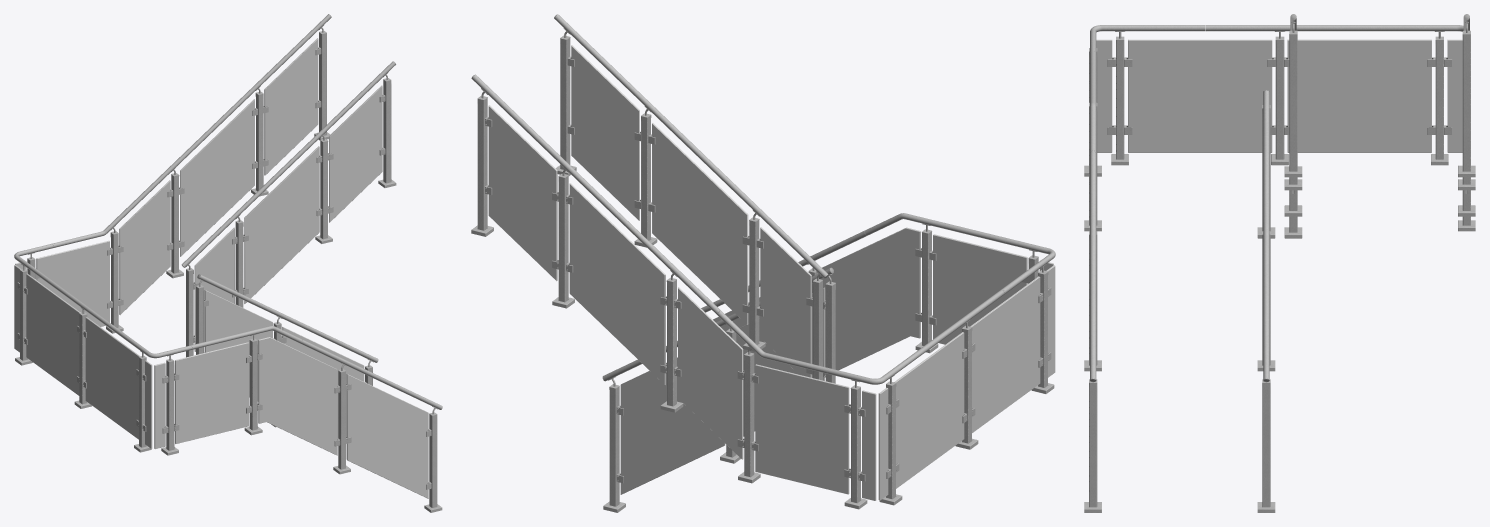
Rendered from Switchback_Railing_Circum-Square_Glass.gltf.
The picture shows the model from 3 angles, left to right: view 1: azimuth 30°, elevation 25°; view 2: azimuth 150°, elevation 25°; view 3: azimuth 270°, elevation 25°; orthographic projection. The views are drawn at different scales.
Visible parts, largest first — view 1: LS208 & LS209 - Circum Square Post Material LS Material [872 (×11), Glass Panel_016, Glass Panel_017, Glass Panel_001, Glass Panel_005, Glass Panel_015, Glass Panel_006, Glass Panel_002, Glass Panel_010, Glass Panel_014, Glass Panel_007, Glass Panel_008 (+15 smaller); view 2: Glass Panel_001, Glass Panel_005, Glass Panel_008, LS208 & LS209 - Circum Square Post Material LS Material [872 (×9), Glass Panel_017, Glass Panel_006, Glass Panel_002, Glass Panel_014, Glass Panel_010, Glass Panel_004, Glass Panel_007, LS208 & LS209 - Circum Square Post Material LS Material [846 (×6) (+12 smaller); view 3: Glass Panel_014, Glass Panel_010, LS208 & LS209 - Circum Square Post Material LS Material [872 (×5), LS208 & LS209 - Circum Square Post Material LS Material [846 (×4), Nested_Rail LS Material [8461324], Glass Panel_013, Glass Panel_011, Nested_Bend Bend_1, Nested_Rail LS Material [8719249], Nested_Bend Bend_2, Nested_Bend Bend [8719267].
Part boxes in pixels (x1,y1,x2,y2): LS208 & LS209 - Circum Square Post Material LS Material [872 (×11): (20,33,437,507); Glass Panel_016: (346,374,428,498); Glass Panel_017: (258,337,337,455); Glass Panel_001: (244,146,319,303); Glass Panel_005: (180,99,254,256); Glass Panel_015: (175,342,248,443); Glass Panel_006: (264,38,318,175); Glass Panel_002: (329,85,382,222); Glass Panel_010: (26,273,80,395); Glass Panel_014: (85,317,139,439); Glass Panel_007: (119,180,170,314); Glass Panel_008: (36,240,109,326); Glass Panel_001: (652,123,748,324); Glass Panel_005: (569,183,665,384); Glass Panel_008: (755,364,849,494); LS208 & LS209 - Circum Square Post Material LS Material [872 (×9): (477,98,1048,503); Glass Panel_017: (821,227,920,370); Glass Panel_006: (488,105,557,280); Glass Panel_002: (571,45,639,220); Glass Panel_014: (970,276,1040,432); Glass Panel_010: (894,332,964,488); Glass Panel_004: (620,357,725,494); Glass Panel_007: (678,287,743,459); LS208 & LS209 - Circum Square Post Material LS Material [846 (×6): (560,38,835,506); Glass Panel_014: (1128,39,1272,152); Glass Panel_010: (1287,39,1431,152); LS208 & LS209 - Circum Square Post Material LS Material [872 (×5): (1089,34,1470,507); LS208 & LS209 - Circum Square Post Material LS Material [846 (×4): (1262,34,1297,507); Nested_Rail LS Material [8461324]: (1263,90,1269,379); Glass Panel_013: (1096,39,1112,152); Glass Panel_011: (1447,39,1462,152); Nested_Bend Bend_1: (1207,25,1463,31); Nested_Rail LS Material [8719249]: (1090,151,1096,379); Nested_Bend Bend_2: (1090,25,1205,52); Nested_Bend Bend [8719267]: (1090,51,1096,151).
Size of the model in its own units: 3.05 by 3.48 by 2.38.
4 materials, 2 textured.
